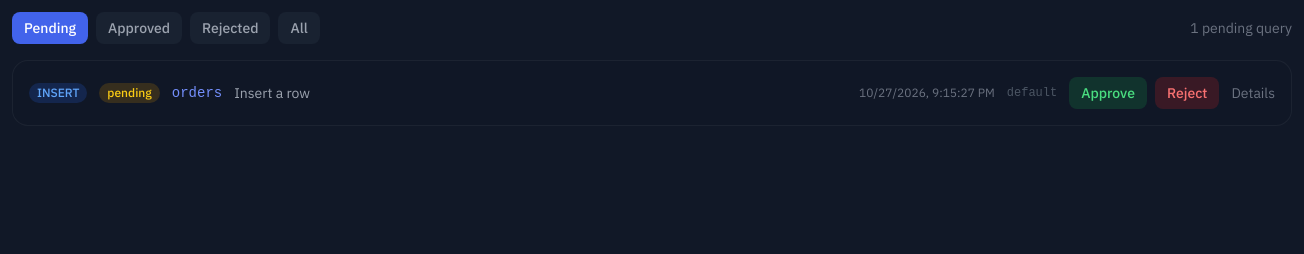
PendingQueries › still renders the SQL/Parameters block for a plain SQL entry (no action, or kind: sql)
What coordinates should you click on to do the following:
click the button "Details"
I would click on:
 (1253, 93)
Its box is [1231,83,1275,103].
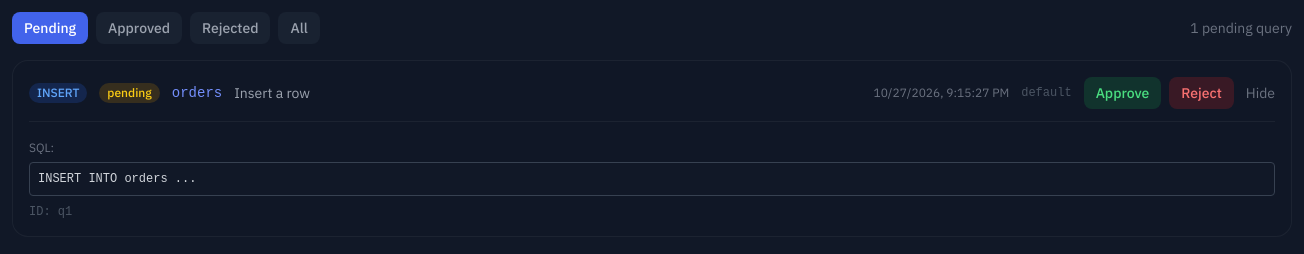
expect the text "SQL:" is shown: met, box [29,140,54,155]
